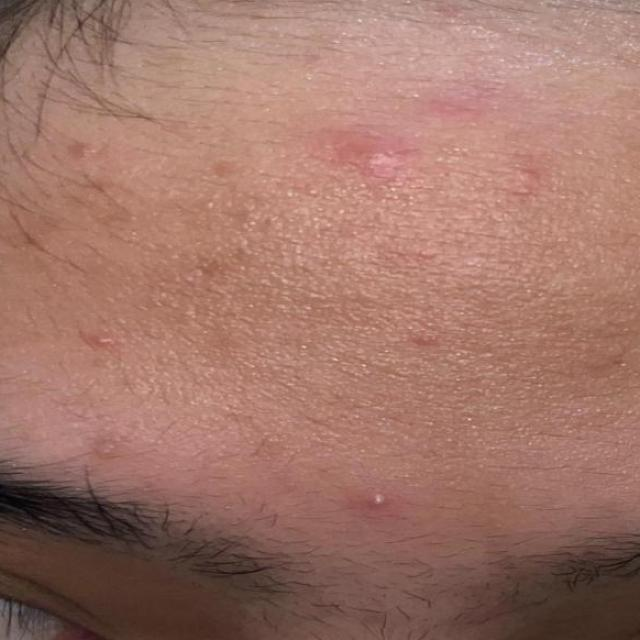papule: (290, 67, 629, 221)
pustule: (358, 476, 397, 515), (83, 324, 122, 351)
